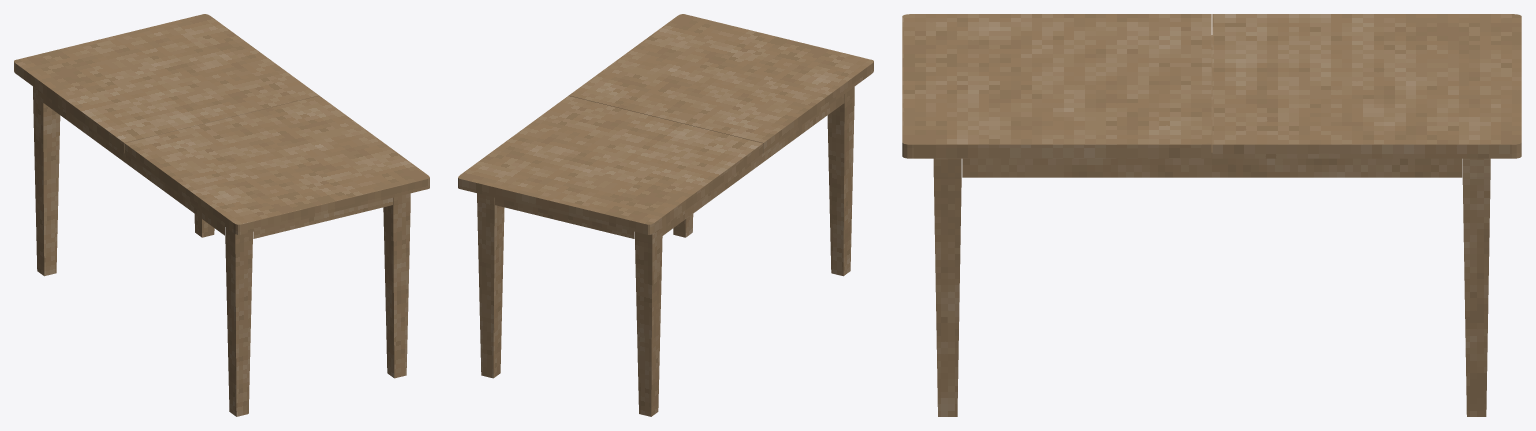
File: table.fbx
3 renders of one model, left to right at view 1: azimuth 30°, elevation 25°; view 2: azimuth 150°, elevation 25°; view 3: azimuth 270°, elevation 25°, orthographic. The views are drawn at different scales.
Parts seen in each view (by area): view 1: Plane, Plane.003, Plane.002; view 2: Plane, Plane.003, Plane.002; view 3: Plane, Plane.003, Plane.002.
Boxes of the visible parts, bbox=[...] form: Plane: bbox=[14, 14, 429, 234]; Plane.003: bbox=[33, 86, 410, 416]; Plane.002: bbox=[43, 94, 392, 238]; Plane: bbox=[458, 14, 873, 234]; Plane.003: bbox=[477, 87, 854, 416]; Plane.002: bbox=[495, 94, 844, 238]; Plane: bbox=[902, 14, 1521, 158]; Plane.003: bbox=[933, 158, 1490, 416]; Plane.002: bbox=[962, 35, 1462, 177].
Size of the model in its own units: 200 by 200 by 400.
